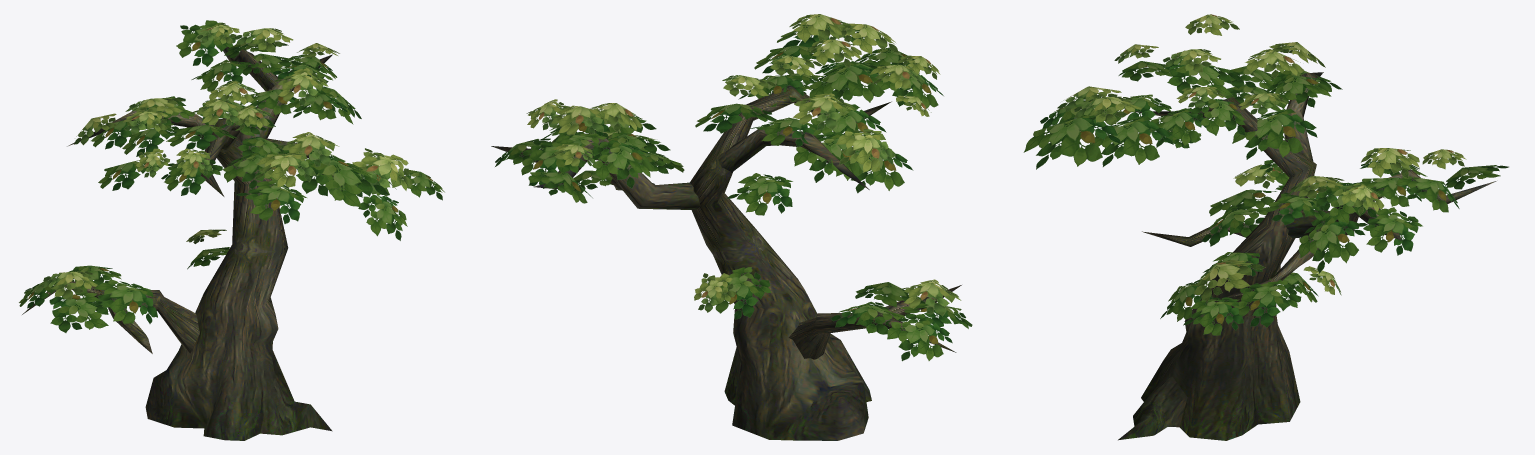
The picture shows the model from 3 angles, left to right: view 1: azimuth 30°, elevation 25°; view 2: azimuth 150°, elevation 25°; view 3: azimuth 270°, elevation 25°; orthographic projection. The views are drawn at different scales.
Parts seen in each view (by area): view 1: MS0002_11_04_2_01, MS0002_11_04_1_01; view 2: MS0002_11_04_2_01, MS0002_11_04_1_01; view 3: MS0002_11_04_2_01, MS0002_11_04_1_01.
Part boxes in pixels (box(x1,y1,x2,y2)): MS0002_11_04_2_01: box(19, 20, 444, 332); MS0002_11_04_1_01: box(22, 46, 333, 440); MS0002_11_04_2_01: box(495, 14, 972, 361); MS0002_11_04_1_01: box(491, 85, 961, 440); MS0002_11_04_2_01: box(1023, 14, 1508, 335); MS0002_11_04_1_01: box(1118, 72, 1496, 440).
Bounding box in the file's own units: 12.28 × 9.37 × 12.41.
